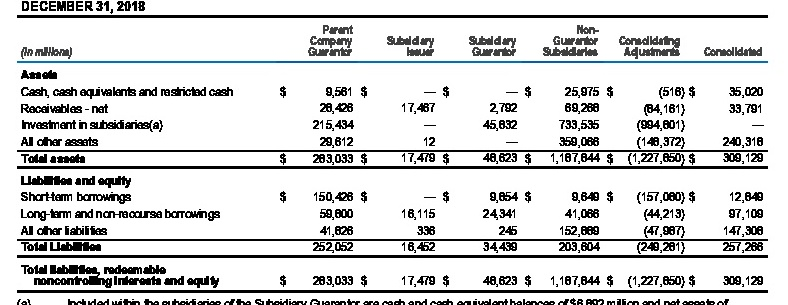table: (0, 0, 788, 305)
